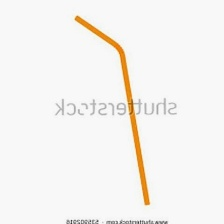drinking_straw: (68, 10, 157, 210)
